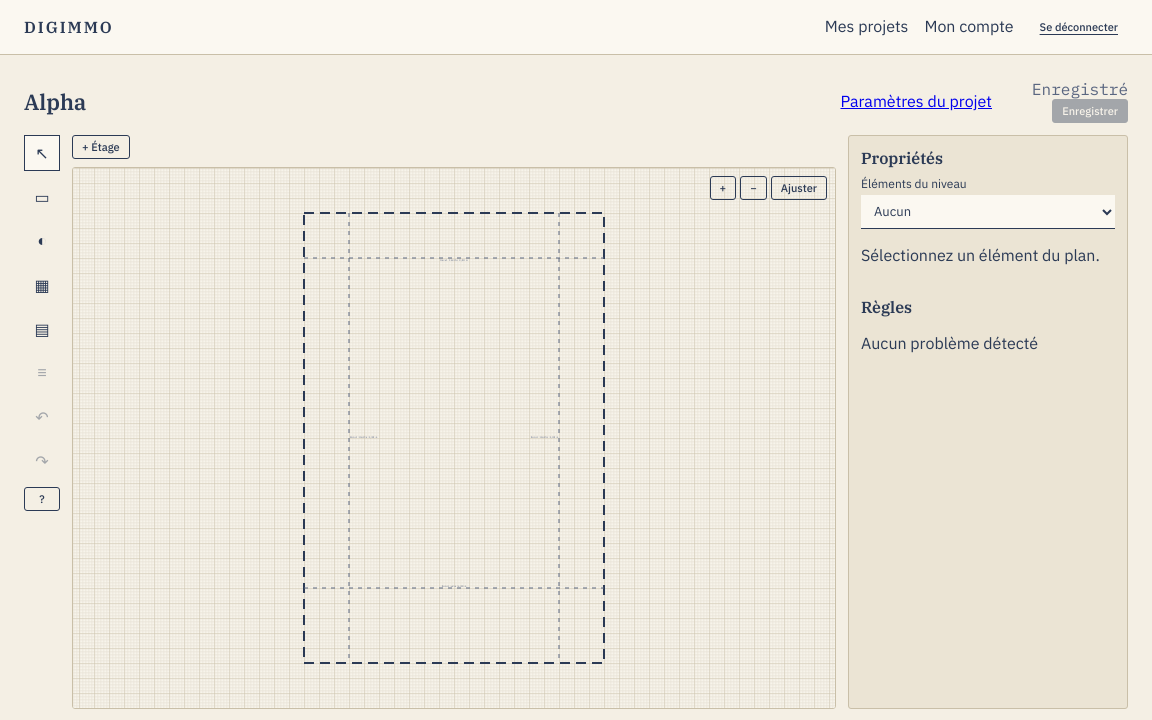
it: cycle de vie et erreurs › après un échec, revenir au plan enregistré (undo) efface l'erreur
Expected: the picture named "Plan du projet" is shown, x1=73 y1=168 x2=835 y2=708
What coordinates should you click on to do the following:
click the button "+ Étage"
I would click on:
 (101, 147)
Its box is x1=72 y1=135 x2=130 y2=159.
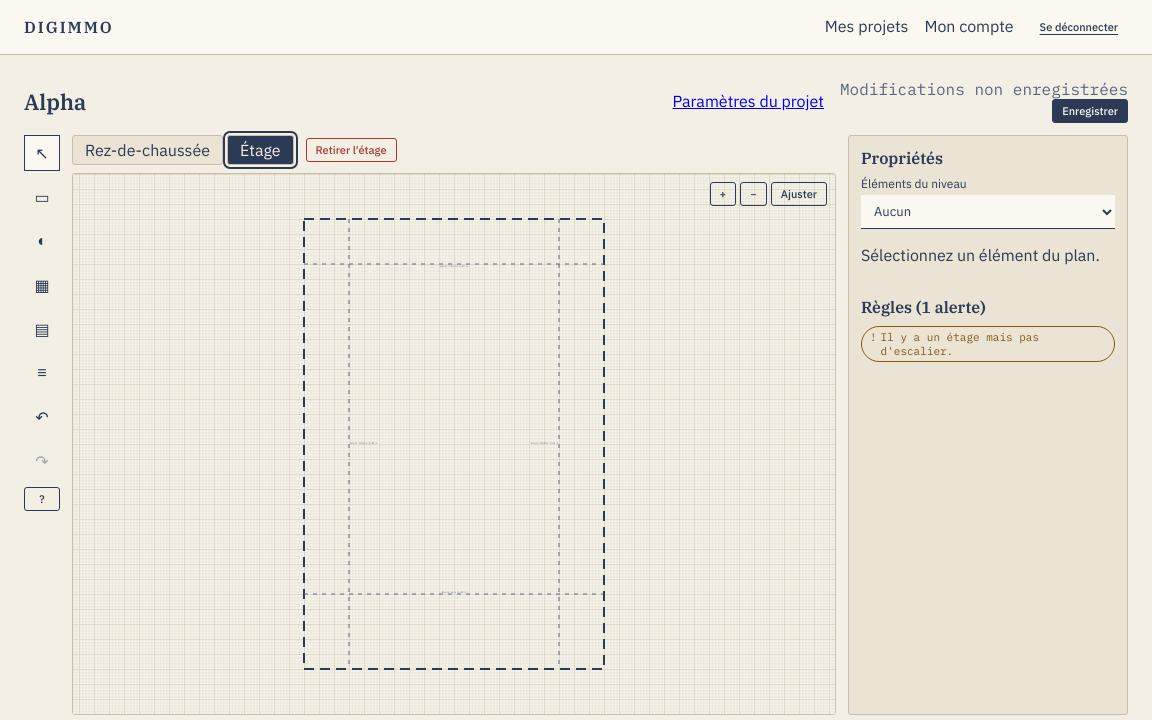
What coordinates should you click on to do the following:
click the button "Enregistrer"
I would click on:
 (1090, 111)
Its box is x1=1052 y1=99 x2=1128 y2=123.
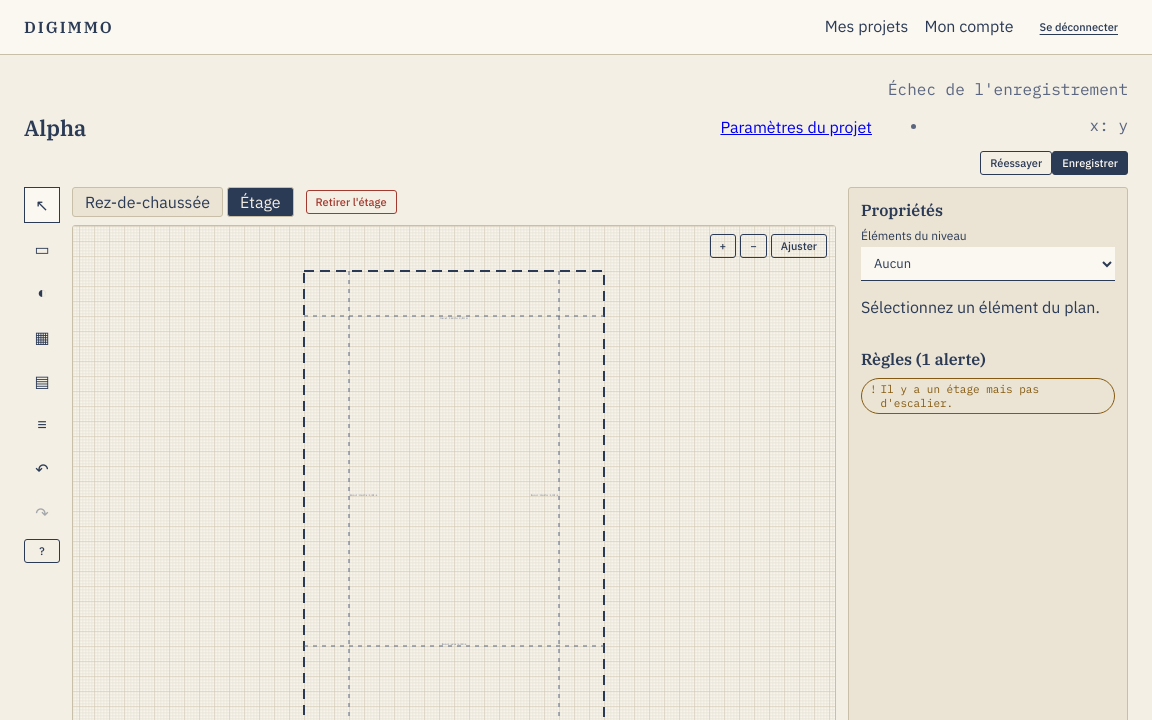
Expected: the text "Échec de l'enregistrement" is shown, x1=888 y1=79 x2=1128 y2=99
What coordinates should you click on to do the following:
click the button named "Annuler"
I would click on:
 (42, 469)
Its box is x1=24 y1=451 x2=60 y2=487.
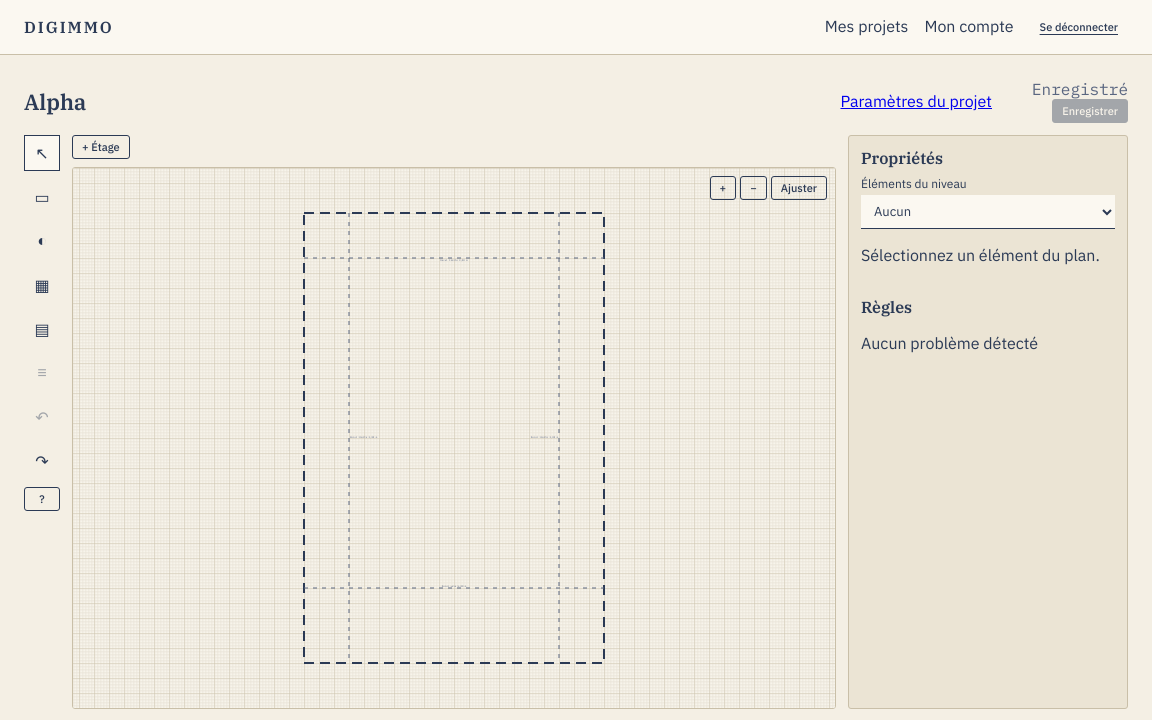
Expected: the text "Enregistré" is shown, x1=1032 y1=79 x2=1128 y2=99
Expected: the text "Échec de l'enregistrement" is gone
